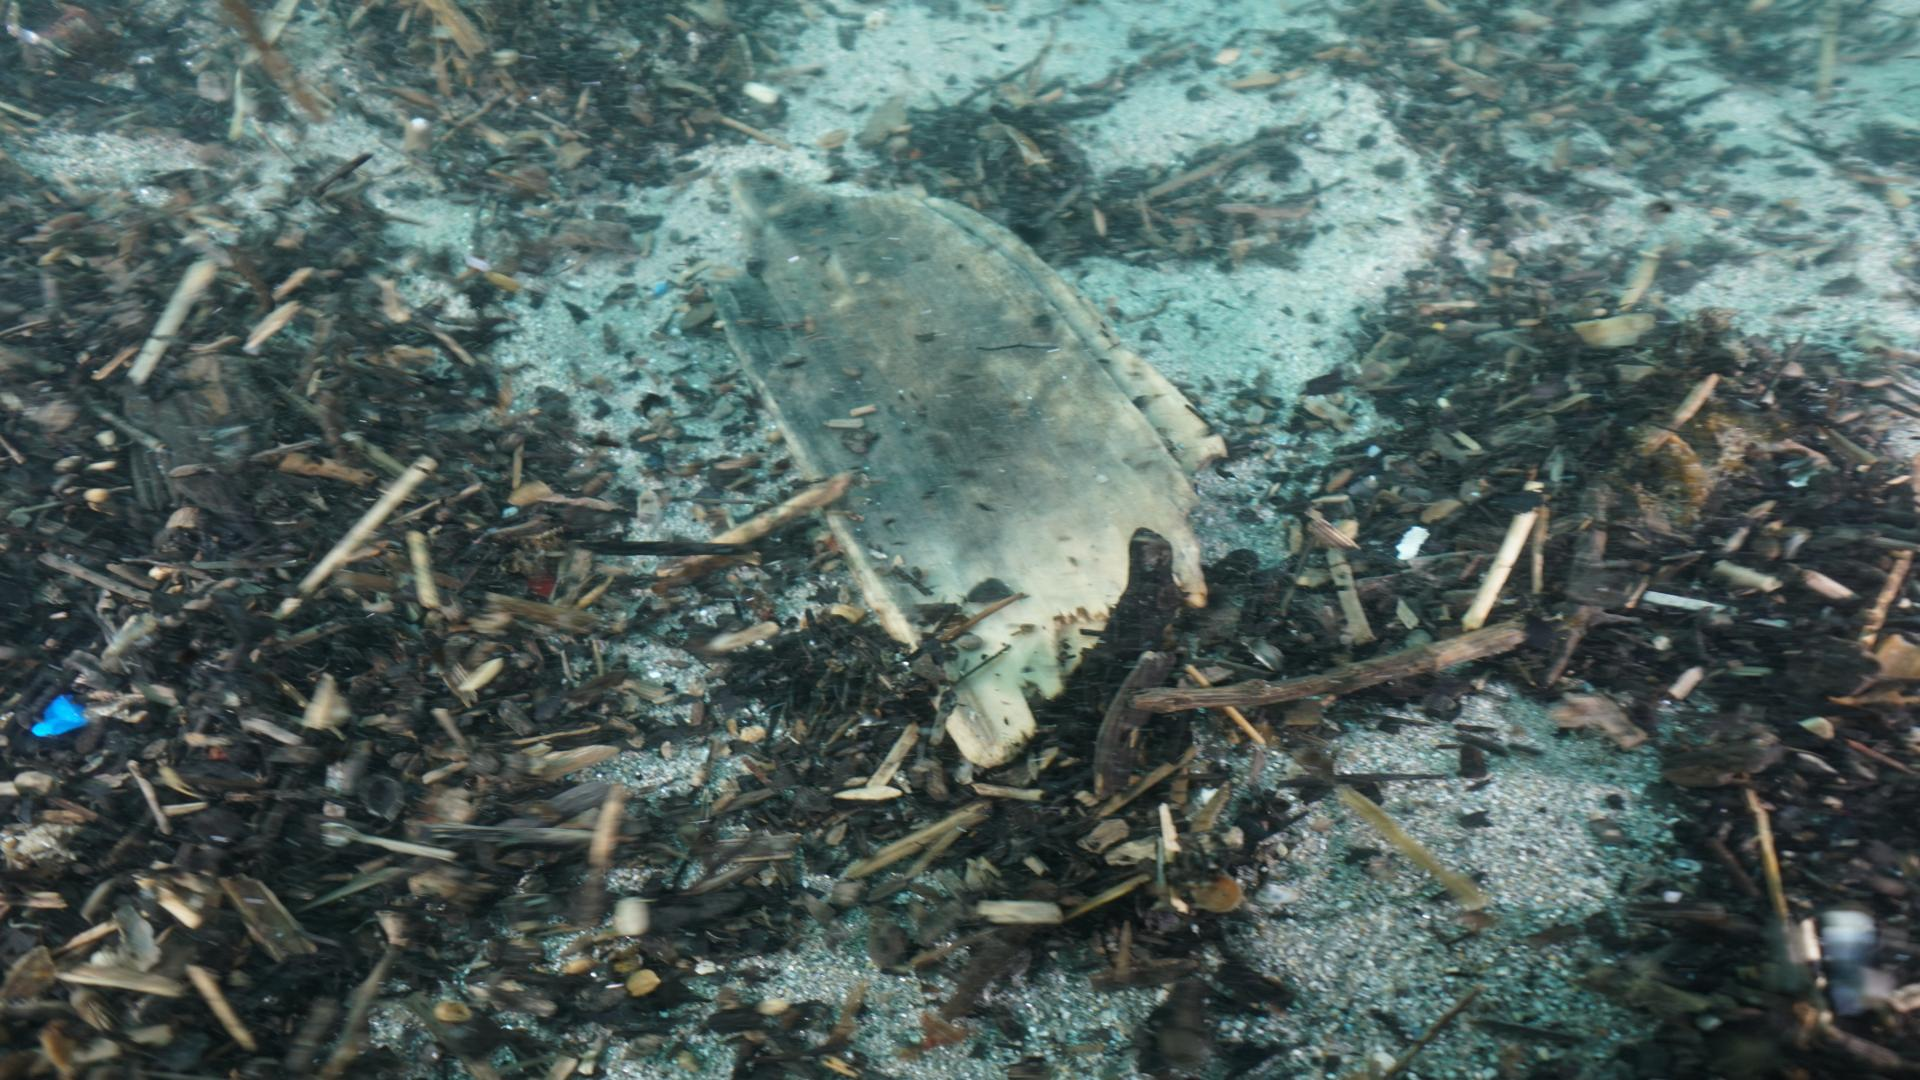wood: (679, 146, 1222, 771)
